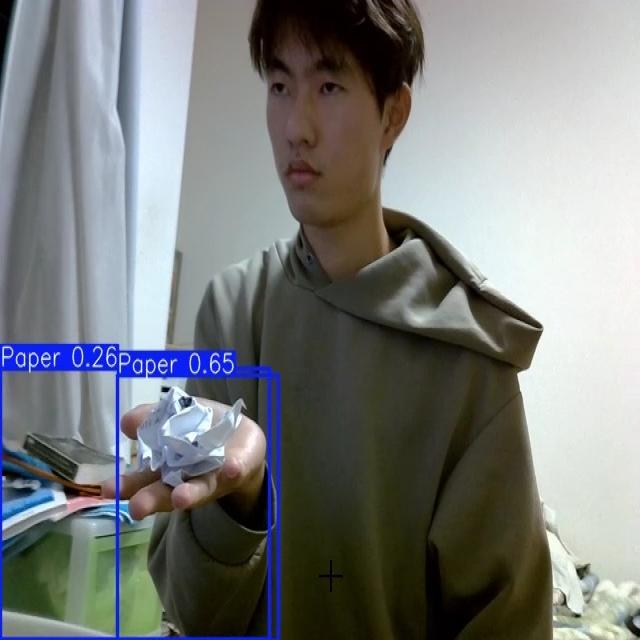paper: (135, 384, 246, 488)
